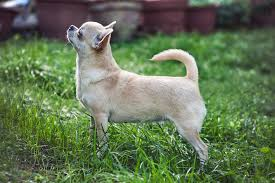Chihuahua: (44, 13, 227, 179)
